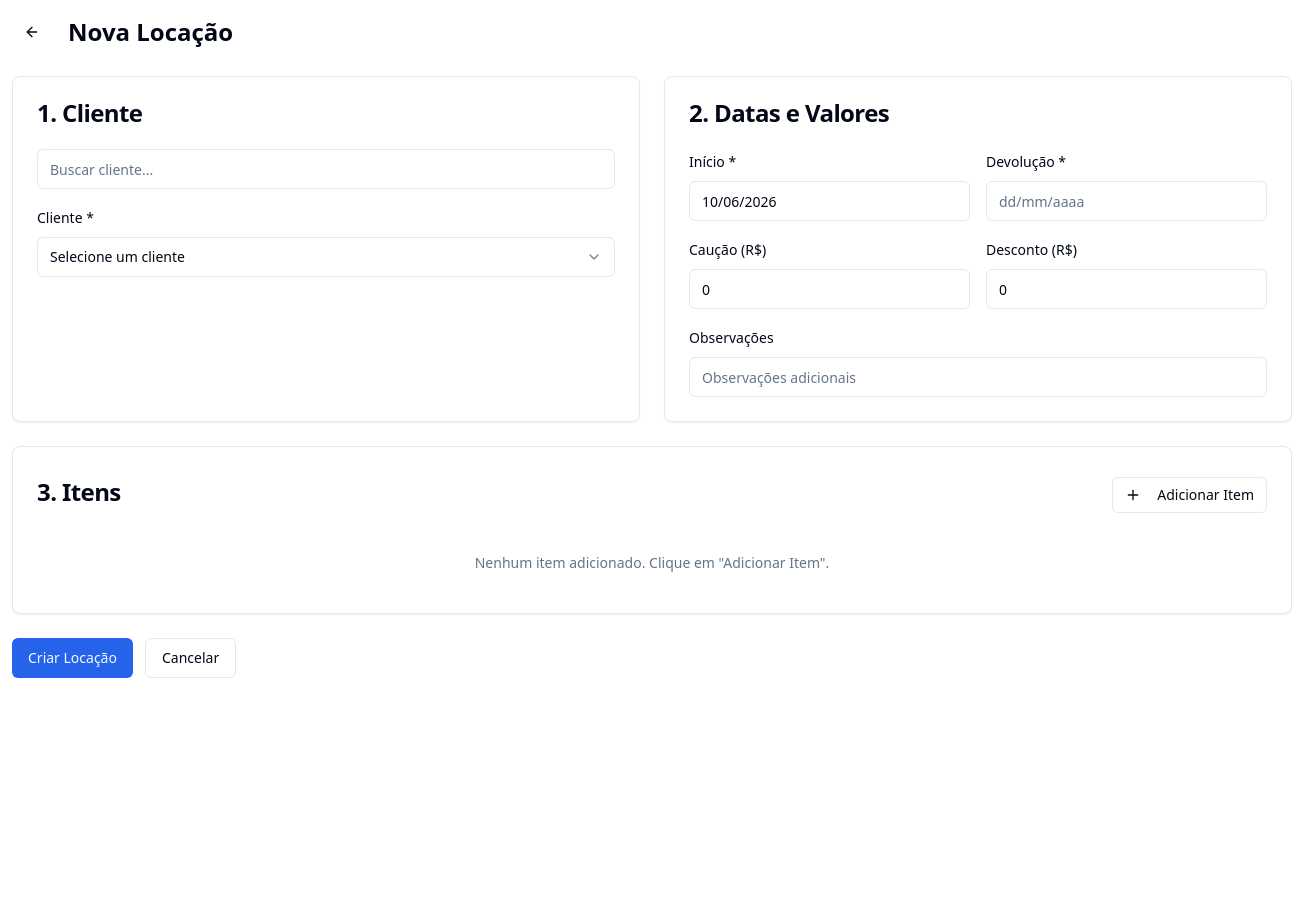
Scenario: RentalForm › shows validation error when submitting without items
Note: Try submitting without items
Click the button "Criar Locação": (72, 658) [12,638,133,678]
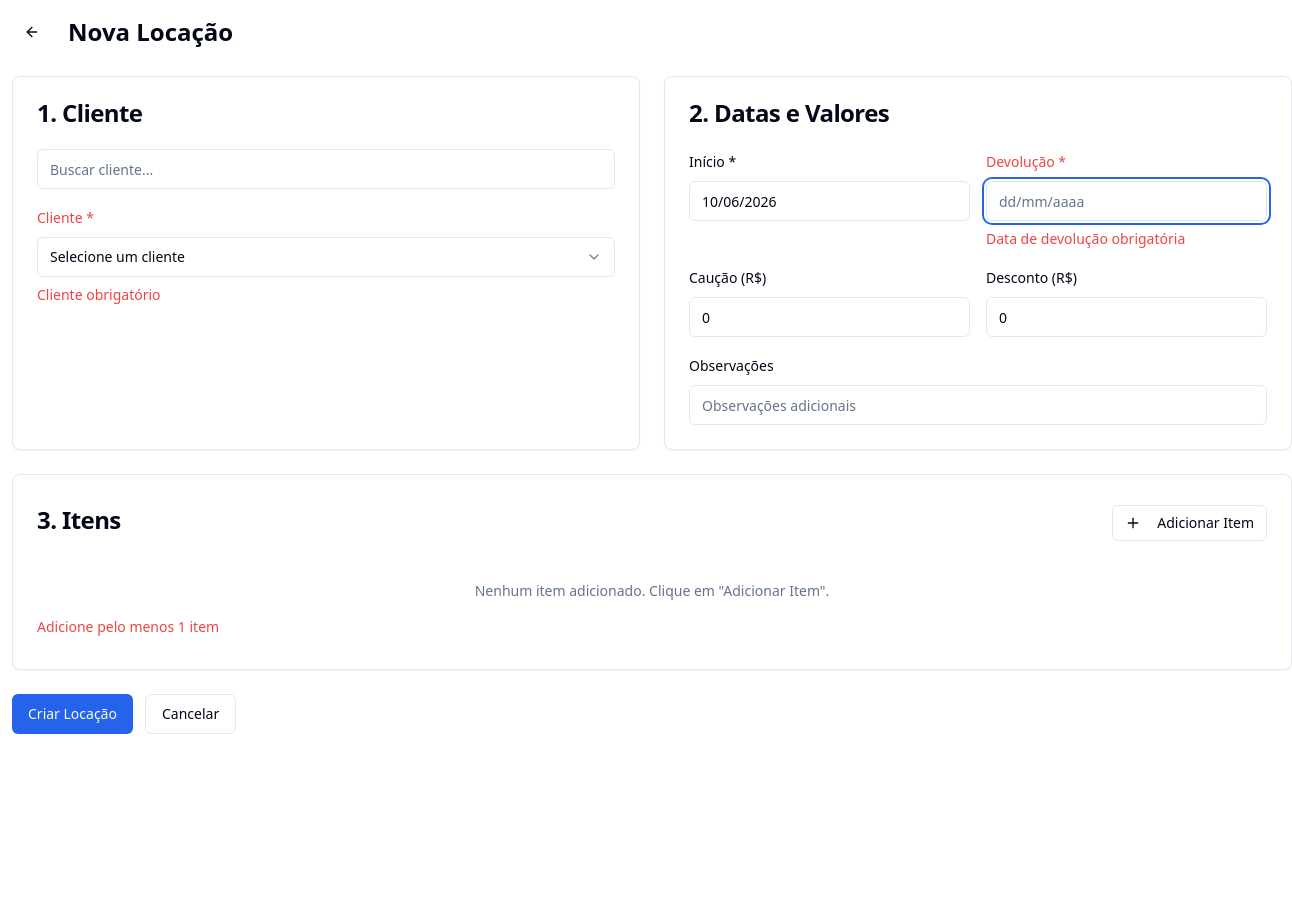
expect the text "Cliente obrigatório" is shown: met, box [37,285,160,304]
